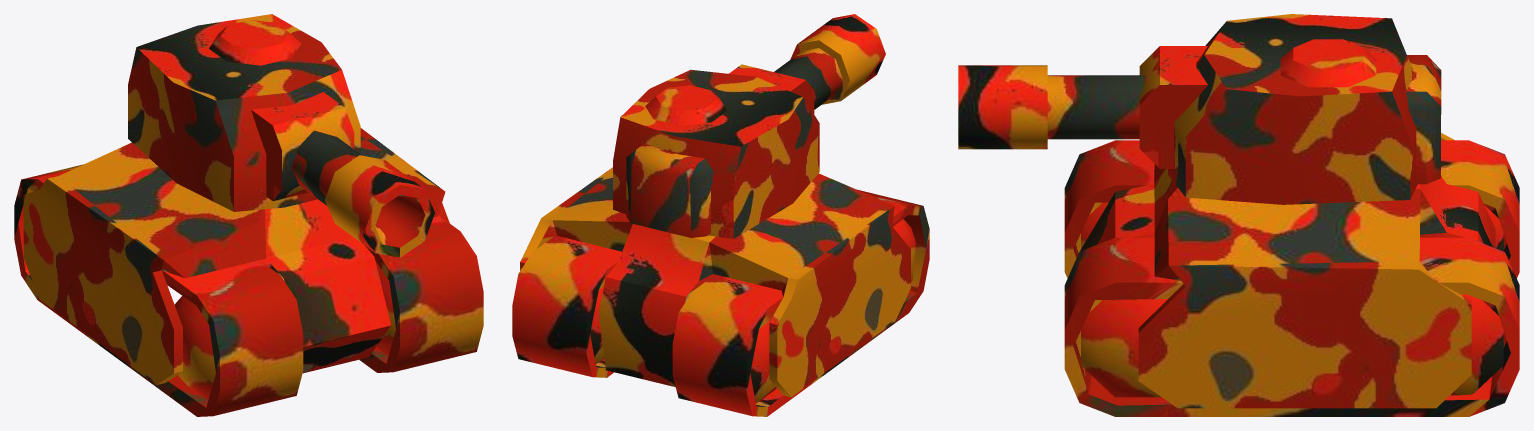
File: red_tank.fbx
3 renders of one model, left to right at view 1: azimuth 30°, elevation 25°; view 2: azimuth 150°, elevation 25°; view 3: azimuth 270°, elevation 25°, orthographic. The views are drawn at different scales.
Parts seen in each view (by area): view 1: Tank1; view 2: Tank1; view 3: Tank1.
Part boxes in pixels (x1=…): Tank1: x1=14, y1=14, x2=483, y2=416; Tank1: x1=512, y1=14, x2=929, y2=416; Tank1: x1=958, y1=14, x2=1519, y2=416.
Bounding box in the file's own units: 294 × 266 × 446.
1 material, 1 textured.
